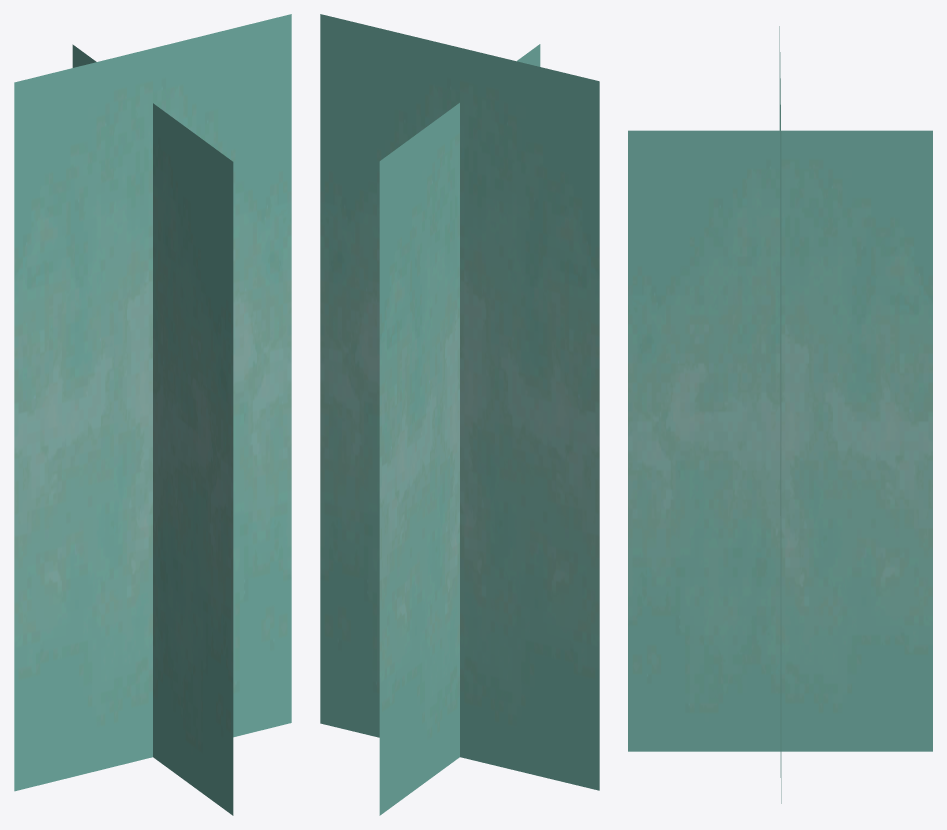
Rendered from fog.fbx.
3 renders of one model, left to right at view 1: azimuth 30°, elevation 25°; view 2: azimuth 150°, elevation 25°; view 3: azimuth 270°, elevation 25°, orthographic. The views are drawn at different scales.
Visible parts, largest first — view 1: fognolight; view 2: fognolight; view 3: fognolight.
Part boxes in pixels (left/top/right/bottom): fognolight: left=14, top=14, right=291, bottom=815; fognolight: left=320, top=14, right=599, bottom=815; fognolight: left=628, top=26, right=932, bottom=803.
Size of the model in its own units: 11.69 by 28.46 by 11.69.
